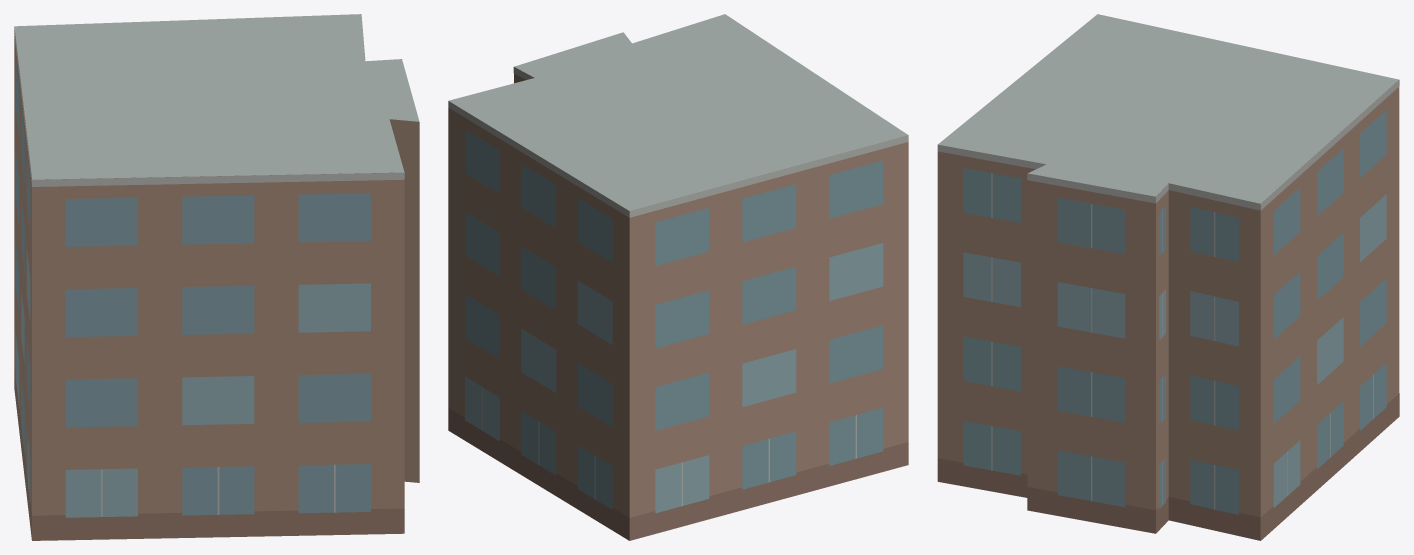
File: survey-upis-32990170.glb
3 views of the same model, side by side, from view 1: azimuth 30°, elevation 25°; view 2: azimuth 150°, elevation 25°; view 3: azimuth 270°, elevation 25° (orthographic). The views are drawn at different scales.
Visible parts, largest first — view 1: survey-upis-32990170.tmp; view 2: survey-upis-32990170.tmp; view 3: survey-upis-32990170.tmp.
Boxes of the visible parts, x1,y1,x2,y2 form: survey-upis-32990170.tmp: [14, 14, 419, 540]; survey-upis-32990170.tmp: [448, 14, 908, 540]; survey-upis-32990170.tmp: [937, 14, 1399, 540].
Size of the model in its own units: 14.63 by 12.1 by 15.03.
